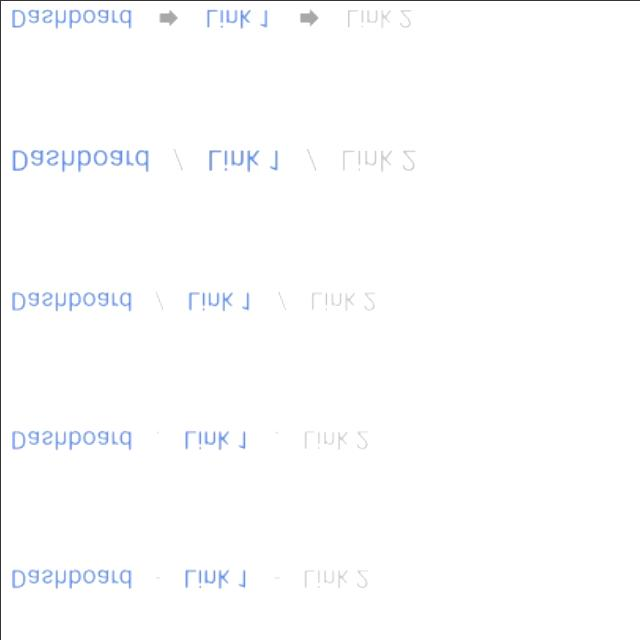VBreadcrumbs: (3, 558, 377, 594), (8, 144, 426, 174), (5, 6, 413, 32), (7, 287, 379, 313), (8, 426, 370, 452)
